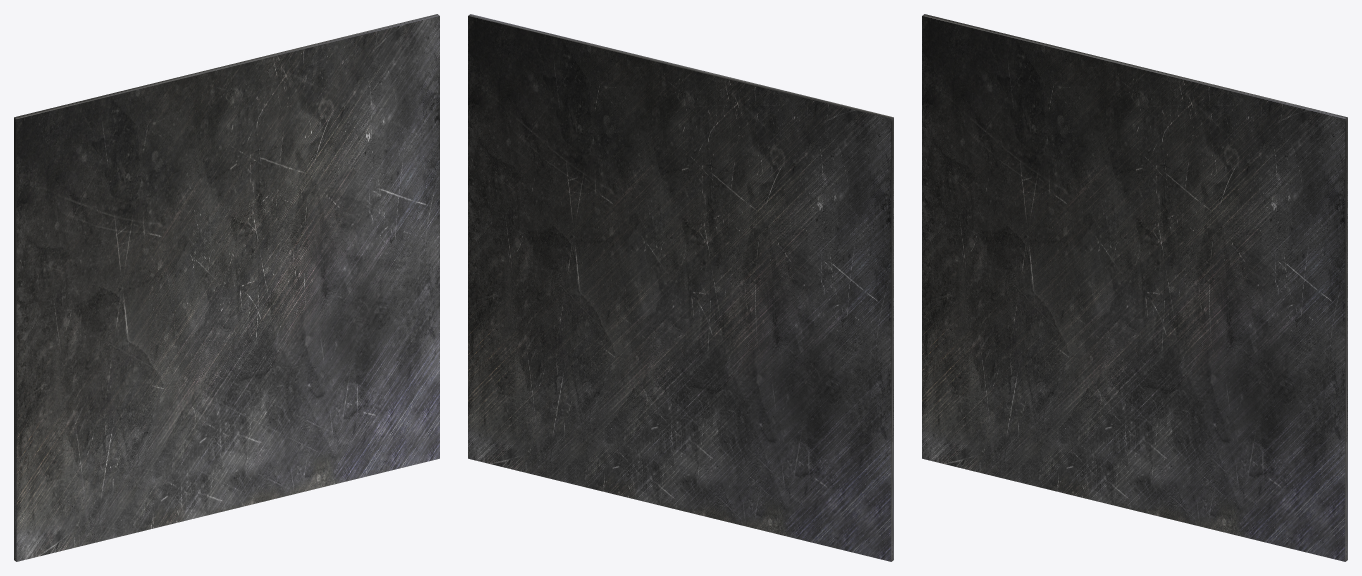
The model's file is ironWall.obj.
3 views of the same model, side by side, from view 1: azimuth 30°, elevation 25°; view 2: azimuth 150°, elevation 25°; view 3: azimuth 330°, elevation 25° (orthographic).
Visible parts, largest first — view 1: Cube_Cube.001; view 2: Cube_Cube.001; view 3: Cube_Cube.001.
Boxes of the visible parts, <box> form: Cube_Cube.001: <box>14,14,439,561</box>; Cube_Cube.001: <box>468,14,893,561</box>; Cube_Cube.001: <box>922,14,1347,561</box>.
Bounding box in the file's own units: 2 × 2 × 0.02.
